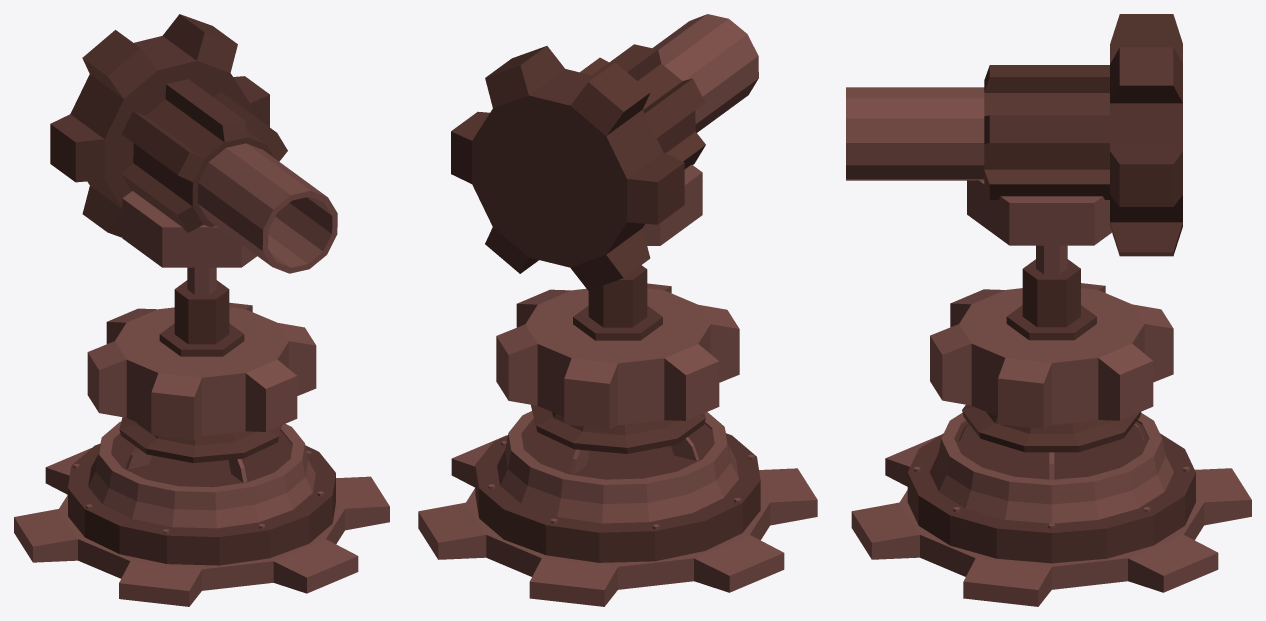
The model's file is cannon_1.glb.
3 views of the same model, side by side, from view 1: azimuth 30°, elevation 25°; view 2: azimuth 150°, elevation 25°; view 3: azimuth 270°, elevation 25° (orthographic). The views are drawn at different scales.
Parts seen in each view (by area): view 1: Cannon_1_Gun_Cylinder.218, Cannon_1_Base_Cylinder.062, Cannon_1_Mid_Cylinder.217; view 2: Cannon_1_Gun_Cylinder.218, Cannon_1_Base_Cylinder.062, Cannon_1_Mid_Cylinder.217; view 3: Cannon_1_Gun_Cylinder.218, Cannon_1_Base_Cylinder.062, Cannon_1_Mid_Cylinder.217.
Part boxes in pixels (x1,y1,x2,y2): Cannon_1_Gun_Cylinder.218: (50, 14, 337, 273); Cannon_1_Base_Cylinder.062: (14, 421, 389, 606); Cannon_1_Mid_Cylinder.217: (87, 267, 316, 462); Cannon_1_Gun_Cylinder.218: (451, 14, 758, 290); Cannon_1_Base_Cylinder.062: (418, 411, 817, 606); Cannon_1_Mid_Cylinder.217: (496, 265, 739, 453); Cannon_1_Gun_Cylinder.218: (846, 14, 1182, 256); Cannon_1_Base_Cylinder.062: (851, 412, 1251, 606); Cannon_1_Mid_Cylinder.217: (930, 245, 1173, 452).
Size of the model in its own units: 1.38 by 1.88 by 1.4.
